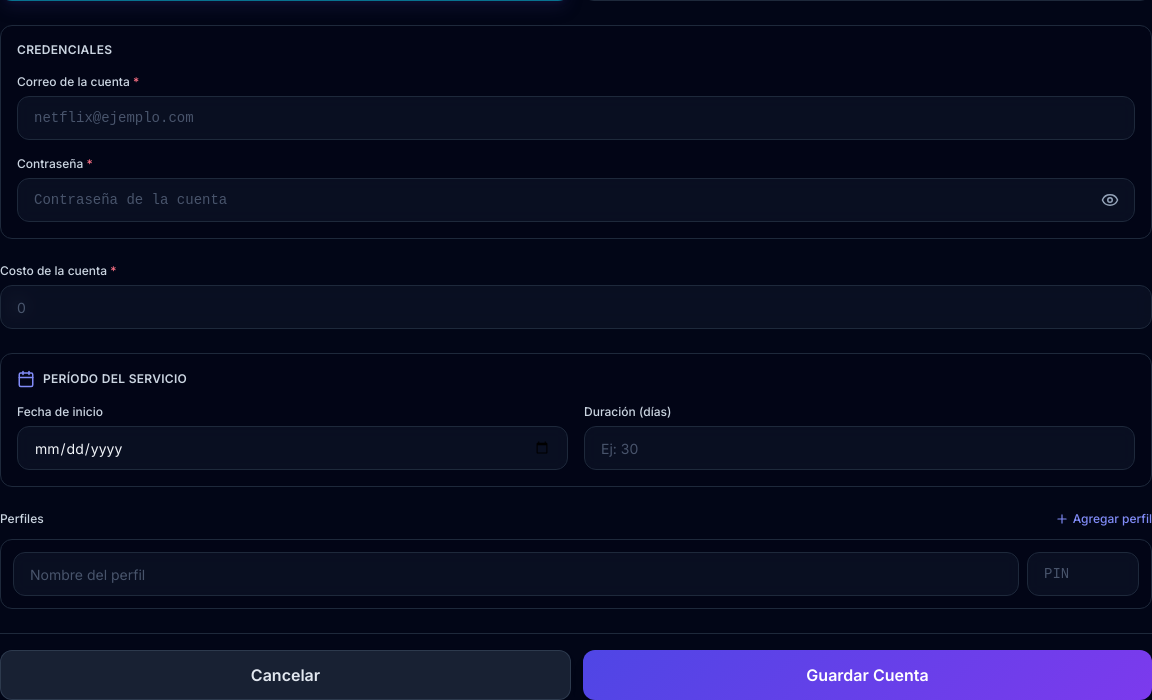
Scenario: CuentaForm › can remove perfiles
(page scrolled)
Click the button "Agregar perfil": (1103, 519) x1=1055 y1=511 x2=1151 y2=527
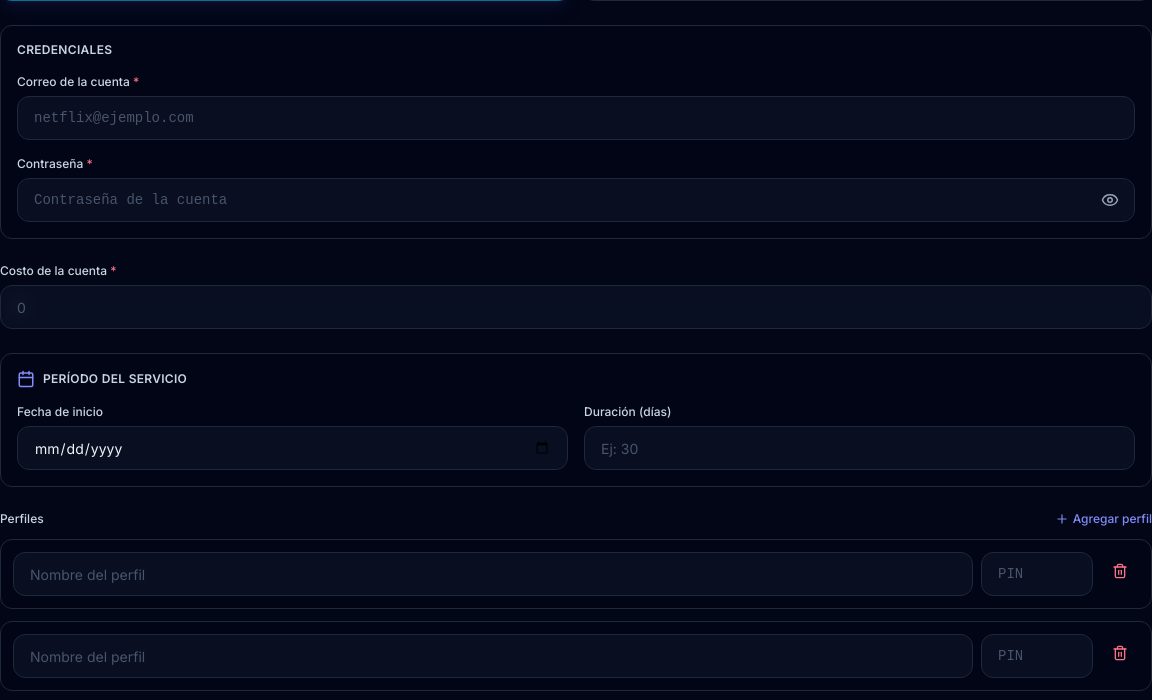
Check: the number of fields with placeholder "Nombre del perfil" is 2, box x1=13 y1=552 x2=973 y2=596; x1=13 y1=634 x2=973 y2=678
Click the 5th button: (1120, 571) x1=1101 y1=552 x2=1139 y2=590
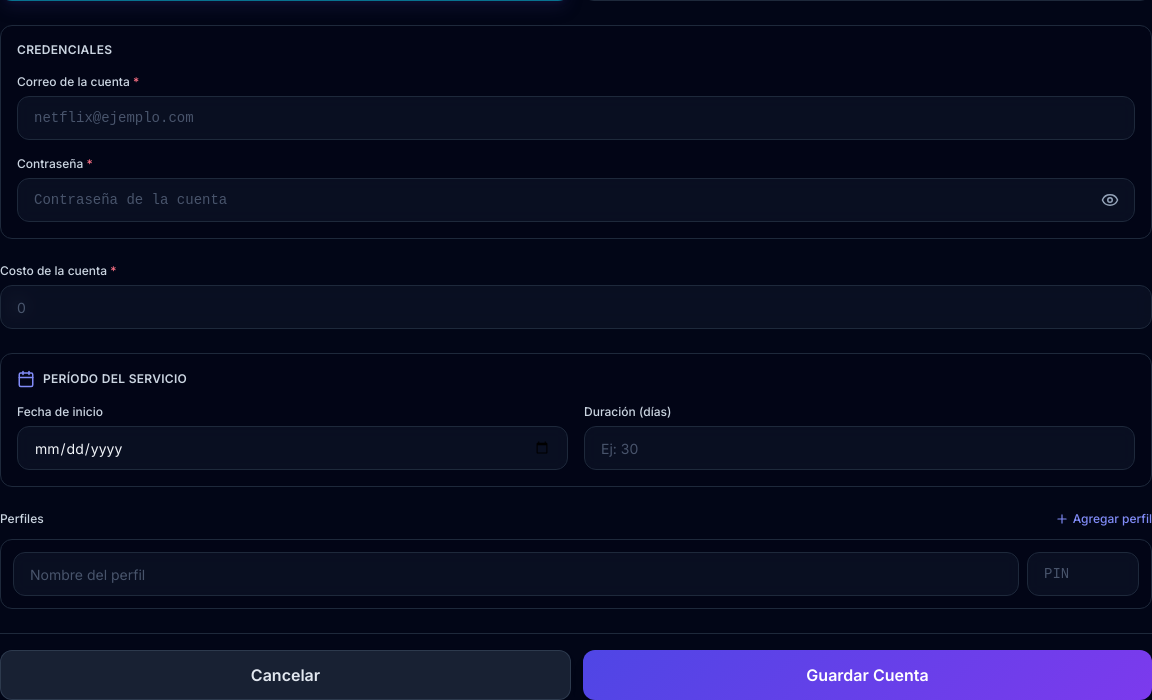
Check: the number of fields with placeholder "Nombre del perfil" is 1, box x1=13 y1=552 x2=1019 y2=596
